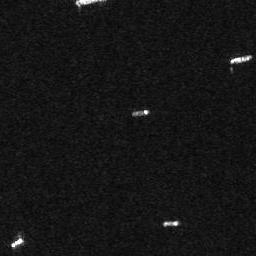ship: (230, 54, 251, 64), (9, 236, 24, 247), (133, 109, 151, 116), (163, 220, 179, 227)
